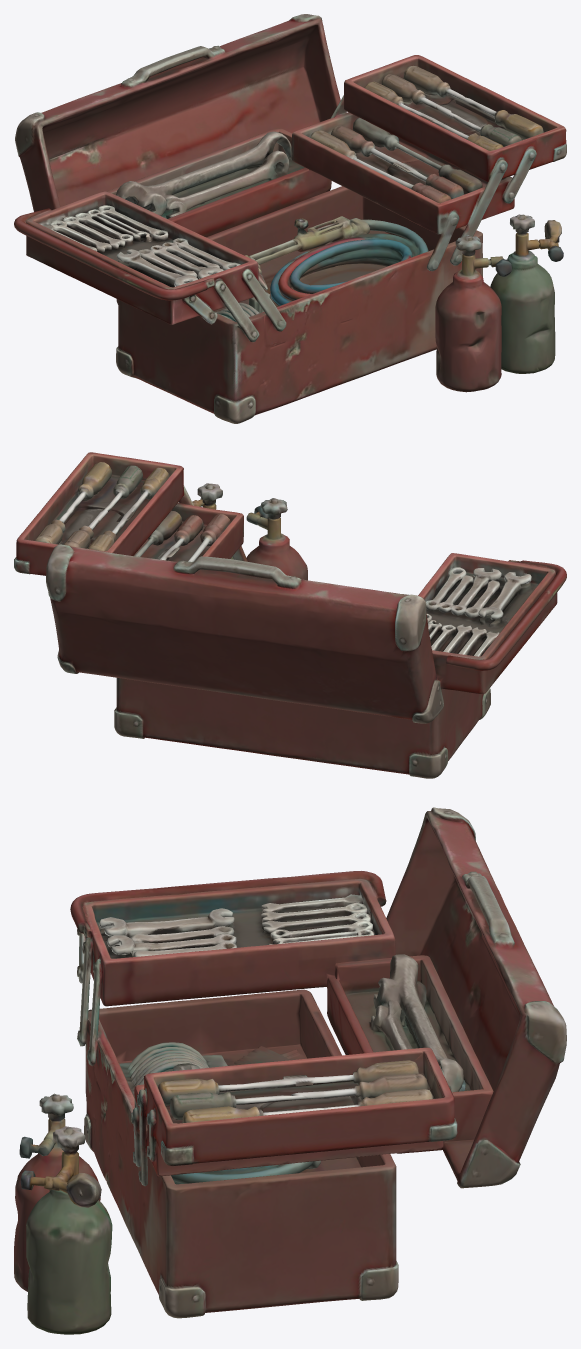
File: silo81_toolbox.glb
3 views of the same model, one above another, from view 1: azimuth 30°, elevation 25°; view 2: azimuth 150°, elevation 25°; view 3: azimuth 270°, elevation 25° (orthographic). The views are drawn at different scales.
Parts seen in each view (by area): view 1: tripo_node_7c8ff6c6-483a-411b-8b8f-b668d3a04029; view 2: tripo_node_7c8ff6c6-483a-411b-8b8f-b668d3a04029; view 3: tripo_node_7c8ff6c6-483a-411b-8b8f-b668d3a04029.
Boxes of the visible parts, bbox=[...] form: tripo_node_7c8ff6c6-483a-411b-8b8f-b668d3a04029: bbox=[14, 14, 566, 423]; tripo_node_7c8ff6c6-483a-411b-8b8f-b668d3a04029: bbox=[14, 452, 566, 778]; tripo_node_7c8ff6c6-483a-411b-8b8f-b668d3a04029: bbox=[14, 807, 566, 1334].
Bounding box in the file's own units: 0.9807 × 0.4628 × 0.7552.
1 material, 1 textured.
